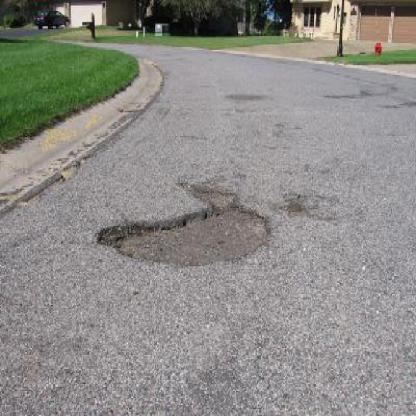pothole: (95, 203, 273, 267), (184, 182, 237, 207), (280, 200, 304, 216)
